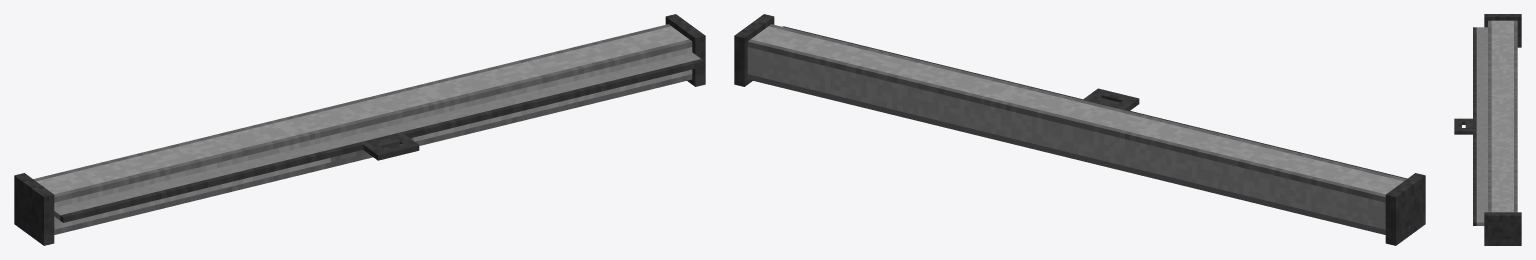
File: pizarraElect.obj
3 views of the same model, side by side, from view 1: azimuth 30°, elevation 25°; view 2: azimuth 150°, elevation 25°; view 3: azimuth 270°, elevation 25° (orthographic). The views are drawn at different scales.
Size of the model in its own units: 12.8 by 0.9 by 1.8.
Materials: 1 (1 with a texture image).
